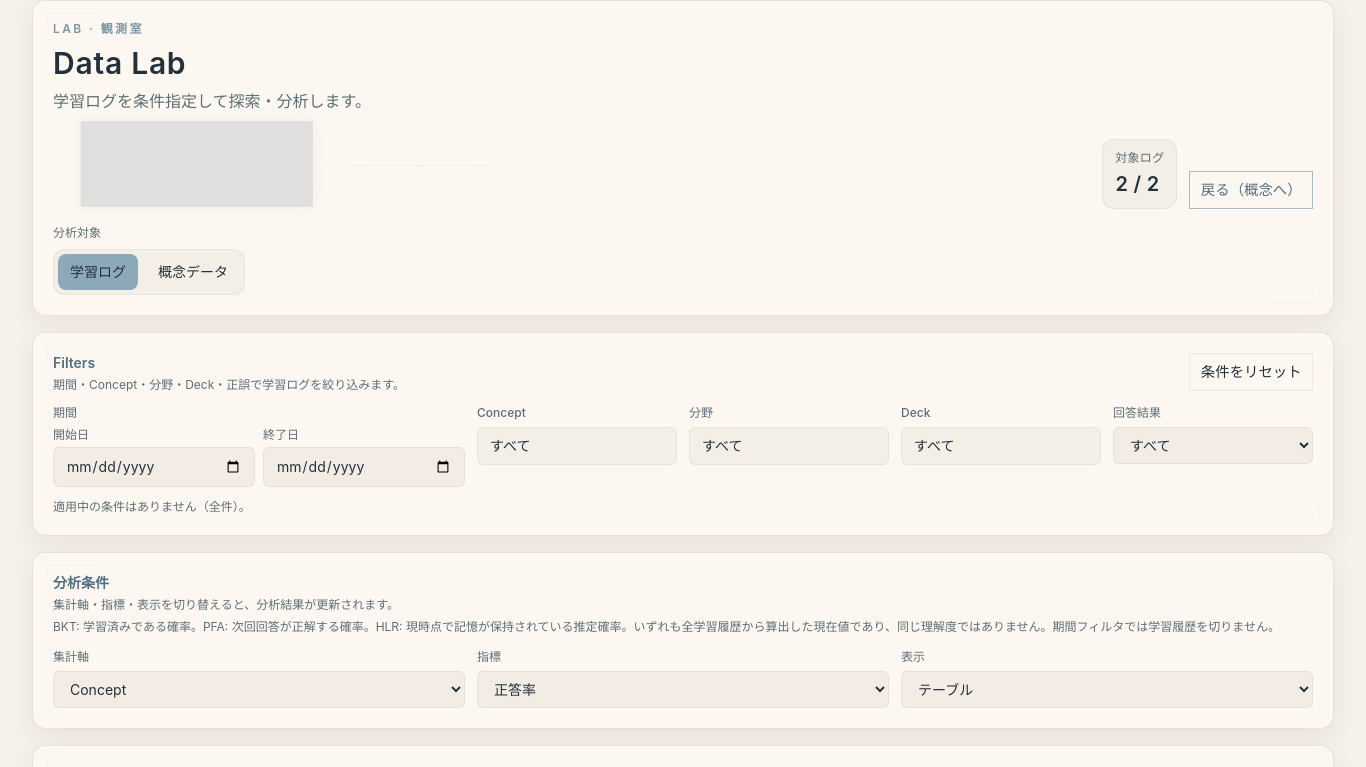
it: DataLabView (#89 / #90) › 折れ線グラフ表示は日集計でグラフ、Conceptでは案内、テーブルに戻せる
Select "折れ線グラフ" in the dropdown labelled "表示" at (1107, 689), box [901,670,1313,708]
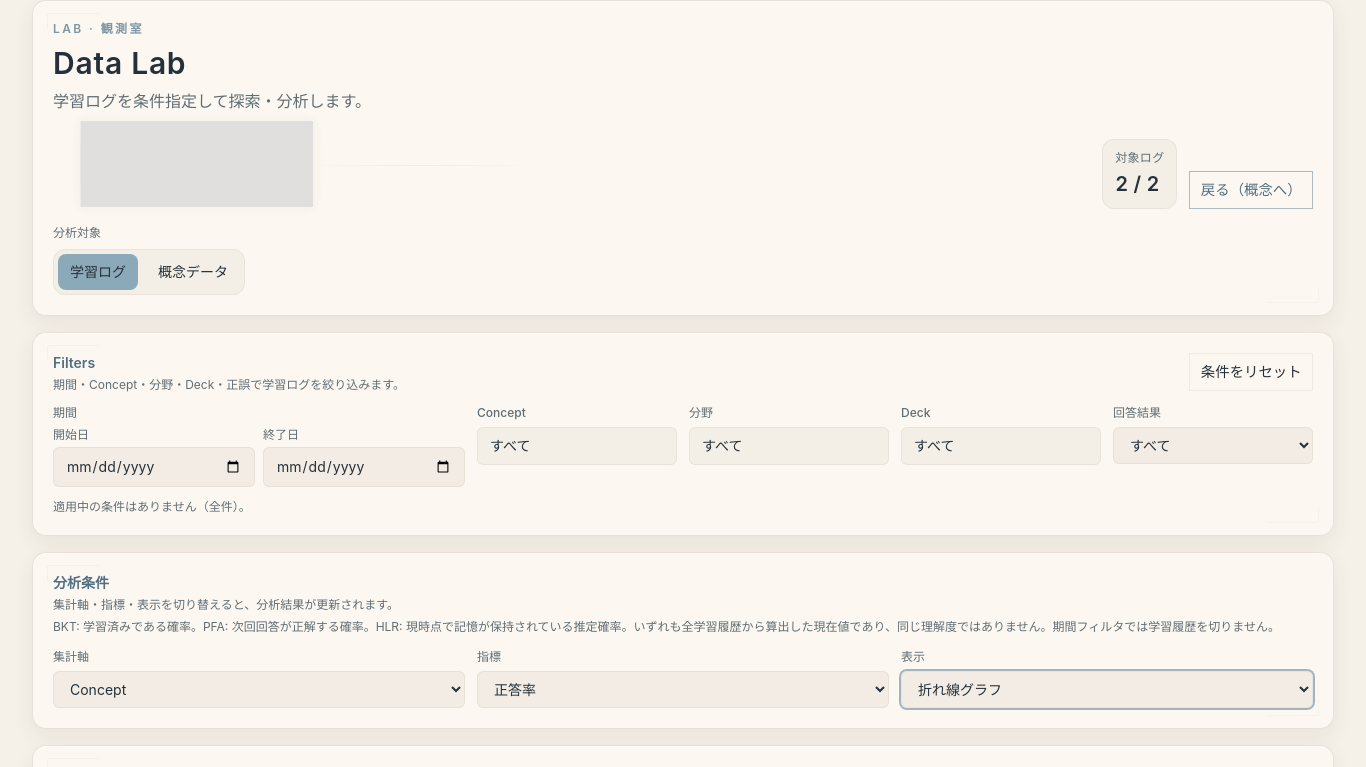
Select "日" in the dropdown labelled "集計軸" at (259, 689), box [53,670,465,708]
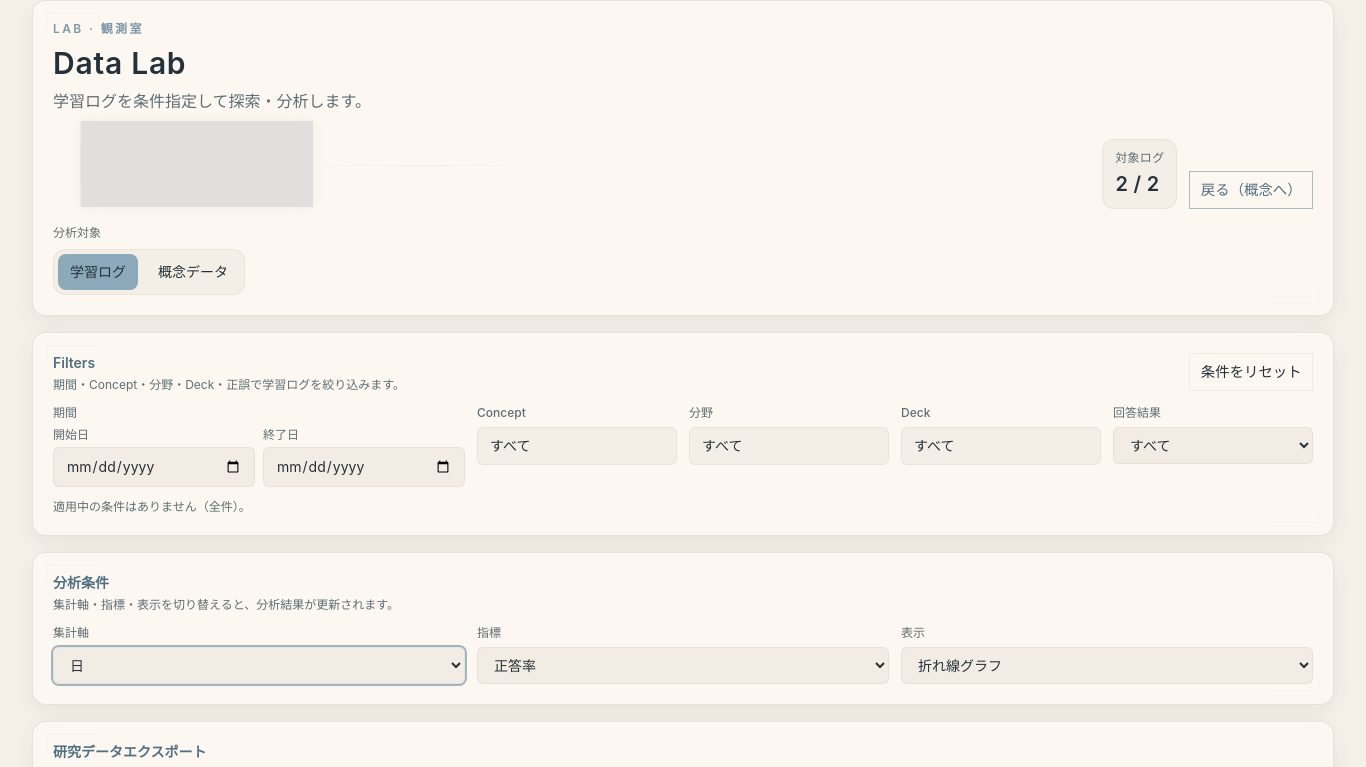
Select "テーブル" in the dropdown labelled "表示" at (1107, 666), box [901,647,1313,684]
(page scrolled)
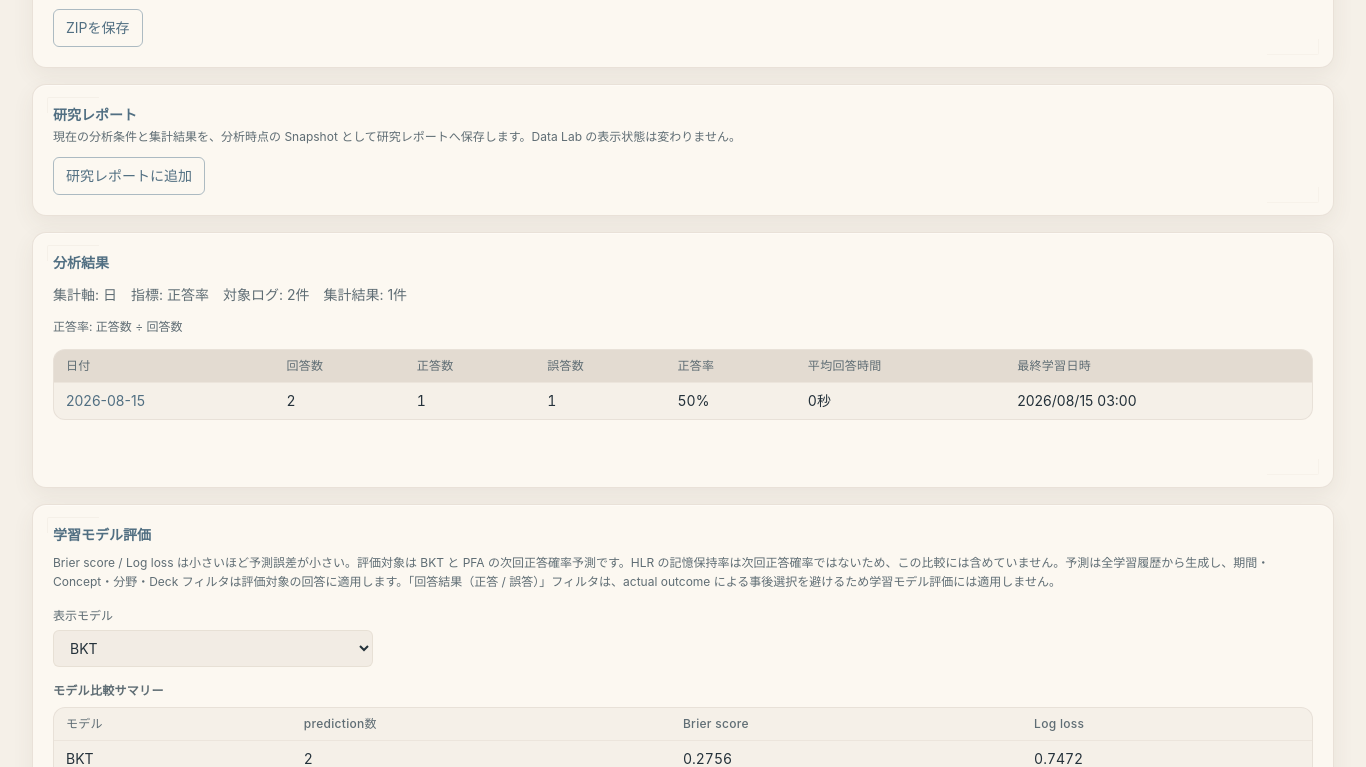
Expected: the table with test id "data-lab-table" is shown, [54,350,1312,418]
